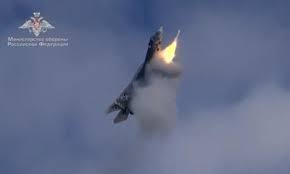ten_lua: (173, 28, 183, 42)
